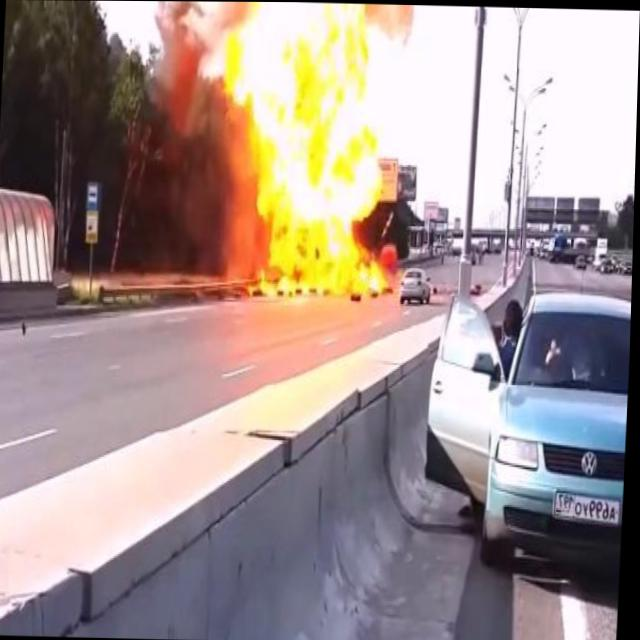fire: (209, 1, 408, 304)
